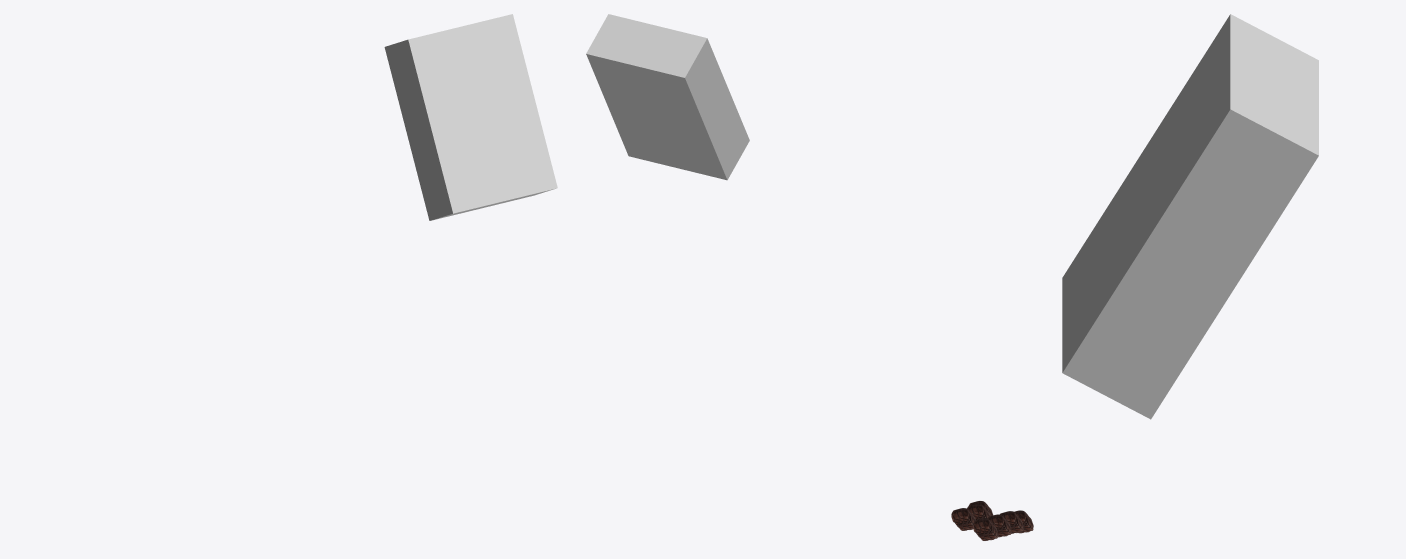
The model's file is ani.b96a5658.glb.
3 views of the same model, side by side, from view 1: azimuth 30°, elevation 25°; view 2: azimuth 150°, elevation 25°; view 3: azimuth 270°, elevation 25° (orthographic). The views are drawn at different scales.
Parts seen in each view (by area): view 1: Cube.001, Cube; view 2: Cube, Cube.001; view 3: Cube.001, Cube.
Part boxes in pixels (x1,y1,x2,y2): Cube.001: (396, 14, 557, 217); Cube: (384, 43, 543, 220); Cube: (586, 34, 738, 180); Cube.001: (597, 14, 749, 159); Cube.001: (1062, 14, 1274, 396); Cube: (1107, 37, 1318, 419).
Size of the model in its own units: 39.24 by 34.54 by 12.87.
2 materials, 1 textured.
